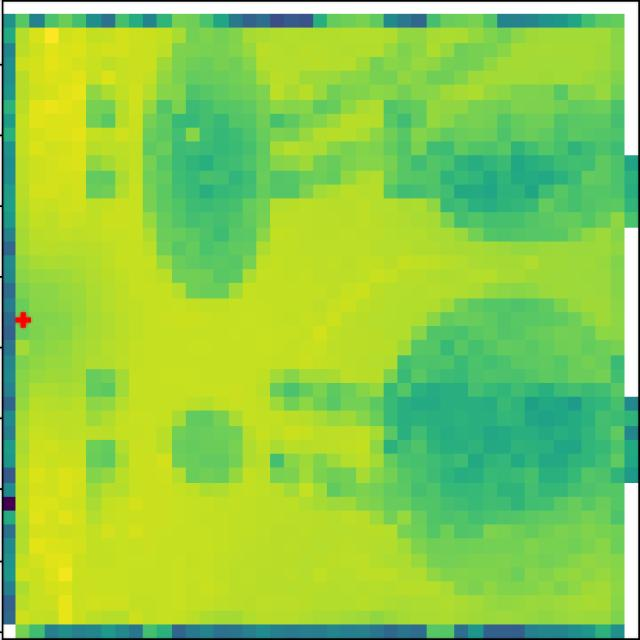Concrete: (436, 85, 594, 235)
Glass: (145, 81, 269, 246)
Metal: (406, 337, 594, 517)
Wood: (171, 405, 249, 489)
